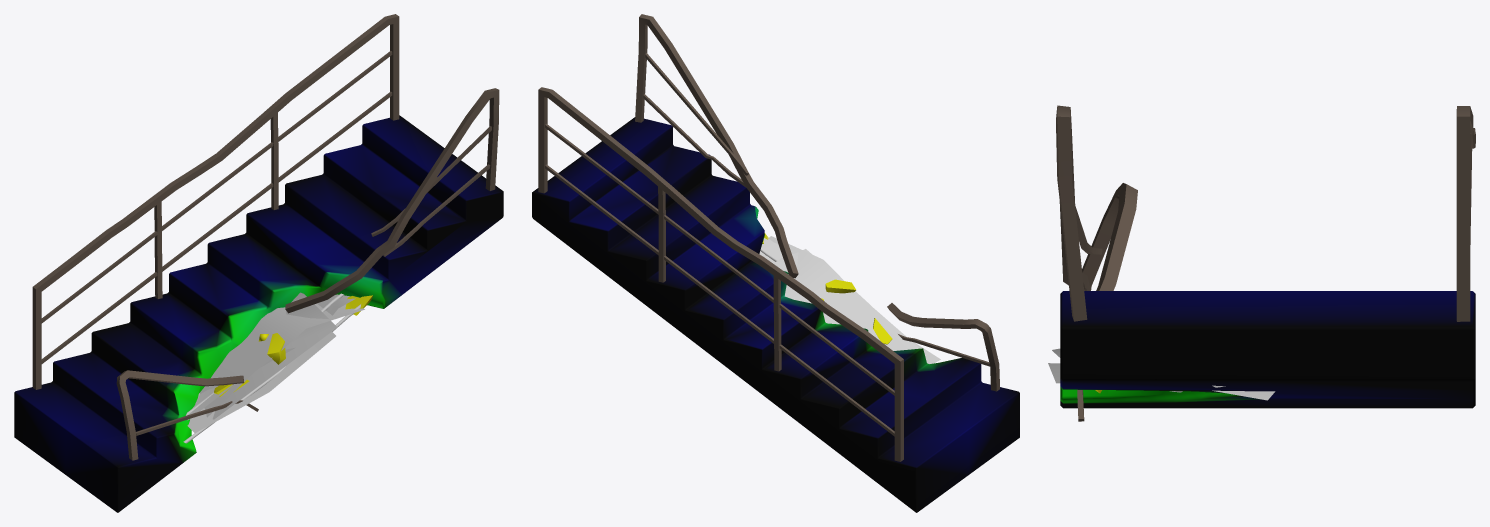
File: DBK_Stairs_Concrete_Short_Damage_Hole.FBX
3 views of the same model, side by side, from view 1: azimuth 30°, elevation 25°; view 2: azimuth 150°, elevation 25°; view 3: azimuth 270°, elevation 25° (orthographic). The views are drawn at different scales.
Parts seen in each view (by area): view 1: DBK_Stairs_Concrete_Short_Damage_Hole, DBK_Stairs_Concrete_Short_Damage_Hole_Rail_L, DBK_Stairs_Concrete_Short_Damage_Hole_Rebar, DBK_Stairs_Concrete_Short_Damage_Hole_Rail_R; view 2: DBK_Stairs_Concrete_Short_Damage_Hole, DBK_Stairs_Concrete_Short_Damage_Hole_Rail_L, DBK_Stairs_Concrete_Short_Damage_Hole_Rail_R, DBK_Stairs_Concrete_Short_Damage_Hole_Rebar; view 3: DBK_Stairs_Concrete_Short_Damage_Hole, DBK_Stairs_Concrete_Short_Damage_Hole_Rail_R, DBK_Stairs_Concrete_Short_Damage_Hole_Rail_L, DBK_Stairs_Concrete_Short_Damage_Hole_Rebar.
Part boxes in pixels (bbox=[...]): DBK_Stairs_Concrete_Short_Damage_Hole: bbox=[14, 115, 503, 512]; DBK_Stairs_Concrete_Short_Damage_Hole_Rail_L: bbox=[32, 14, 399, 389]; DBK_Stairs_Concrete_Short_Damage_Hole_Rebar: bbox=[183, 292, 364, 443]; DBK_Stairs_Concrete_Short_Damage_Hole_Rail_R: bbox=[116, 88, 499, 460]; DBK_Stairs_Concrete_Short_Damage_Hole: bbox=[532, 117, 1019, 512]; DBK_Stairs_Concrete_Short_Damage_Hole_Rail_L: bbox=[538, 87, 903, 461]; DBK_Stairs_Concrete_Short_Damage_Hole_Rail_R: bbox=[635, 14, 999, 391]; DBK_Stairs_Concrete_Short_Damage_Hole_Rebar: bbox=[759, 236, 940, 363]; DBK_Stairs_Concrete_Short_Damage_Hole: bbox=[1060, 291, 1475, 408]; DBK_Stairs_Concrete_Short_Damage_Hole_Rail_R: bbox=[1056, 105, 1137, 421]; DBK_Stairs_Concrete_Short_Damage_Hole_Rail_L: bbox=[1456, 106, 1475, 321]; DBK_Stairs_Concrete_Short_Damage_Hole_Rebar: bbox=[1048, 348, 1275, 400].
Size of the model in its own units: 300 by 246 by 144.
